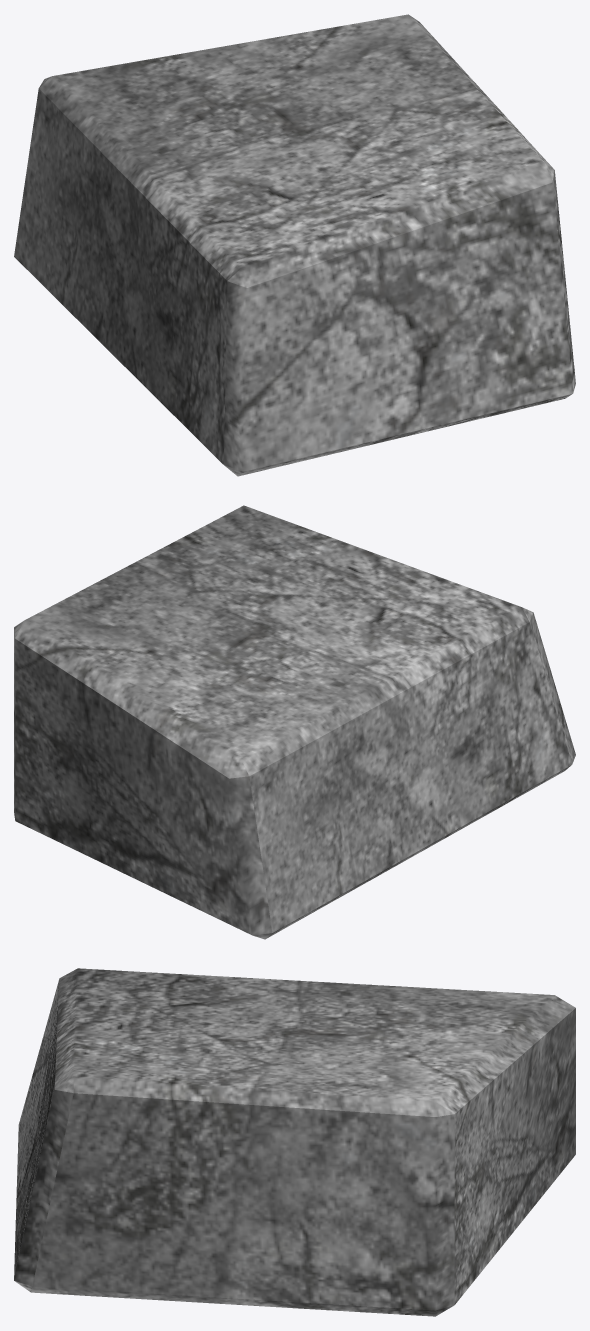
The model's file is materials_3_rubble_1.fbx.
The picture shows the model from 3 angles, top to bottom: view 1: azimuth 30°, elevation 25°; view 2: azimuth 150°, elevation 25°; view 3: azimuth 270°, elevation 25°; orthographic projection. The views are drawn at different scales.
Visible parts, largest first — view 1: materials_3_rubble_1; view 2: materials_3_rubble_1; view 3: materials_3_rubble_1.
Boxes of the visible parts, x1,y1,x2,y2 form: materials_3_rubble_1: [14, 14, 575, 476]; materials_3_rubble_1: [14, 505, 575, 939]; materials_3_rubble_1: [14, 968, 575, 1316].
Size of the model in its own units: 30.21 by 15.98 by 37.9.
